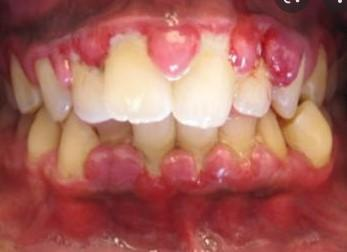Gingivitis: (152, 23, 194, 73), (259, 28, 296, 84), (92, 144, 128, 185)
